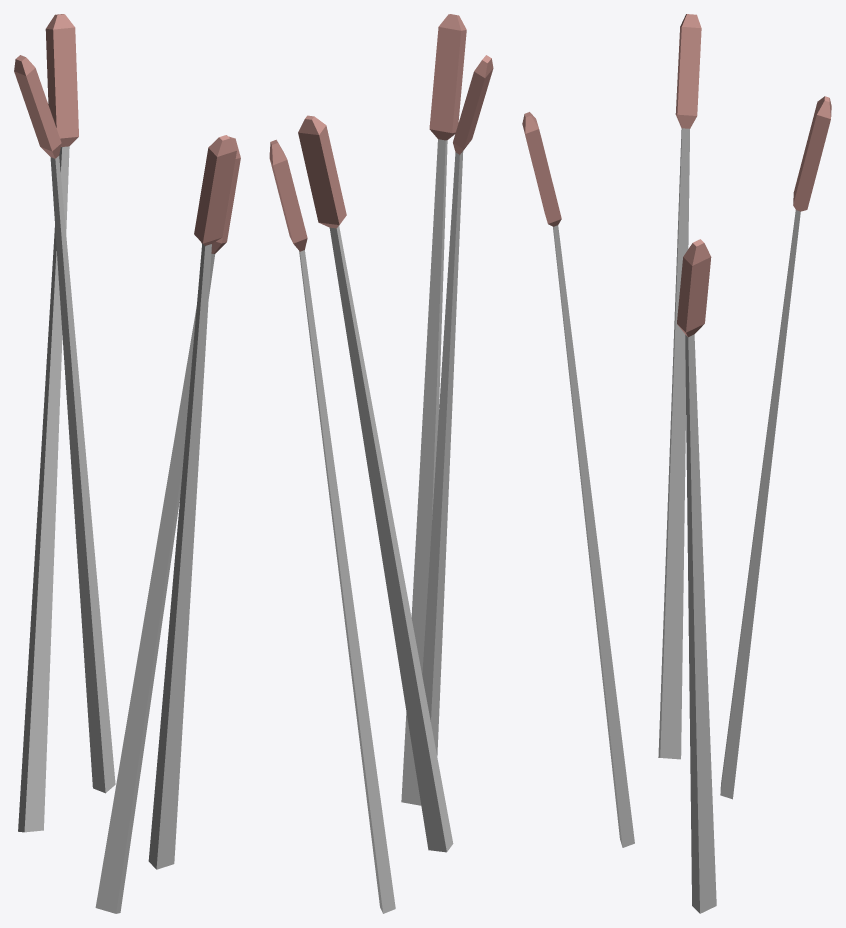
File: Cattails.fbx
3 renders of one model, left to right at view 1: azimuth 30°, elevation 25°; view 2: azimuth 150°, elevation 25°; view 3: azimuth 270°, elevation 25°, orthographic. The views are drawn at different scales.
Parts seen in each view (by area): view 1: Cattails; view 2: Cattails; view 3: Cattails.
Boxes of the visible parts, x1,y1,x2,y2 form: Cattails: (14, 14, 240, 913); Cattails: (269, 14, 493, 913); Cattails: (522, 14, 831, 913).
Bounding box in the file's own units: 0.6777 × 2.57 × 0.8441.
